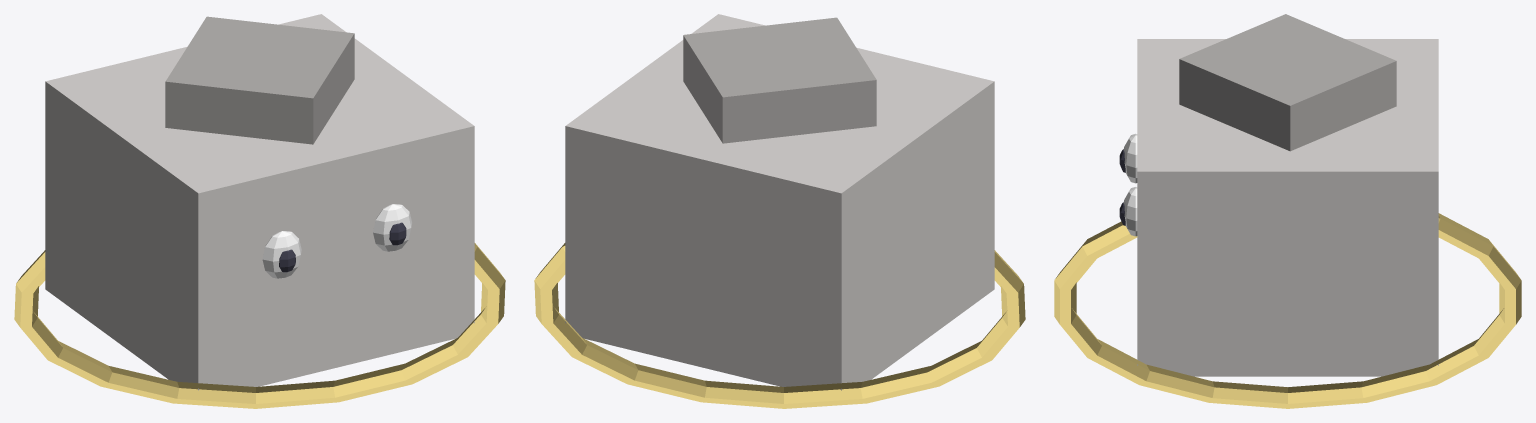
Rendered from diamondpaw.glb.
The picture shows the model from 3 angles, left to right: view 1: azimuth 30°, elevation 25°; view 2: azimuth 150°, elevation 25°; view 3: azimuth 270°, elevation 25°; orthographic projection.
Visible parts, largest first — view 1: diamondpaw; view 2: diamondpaw; view 3: diamondpaw.
Boxes of the visible parts, bbox=[...] form: diamondpaw: bbox=[14, 14, 505, 408]; diamondpaw: bbox=[534, 14, 1025, 408]; diamondpaw: bbox=[1054, 14, 1521, 408].
Bounding box in the file's own units: 2.3 × 1.29 × 2.18.
